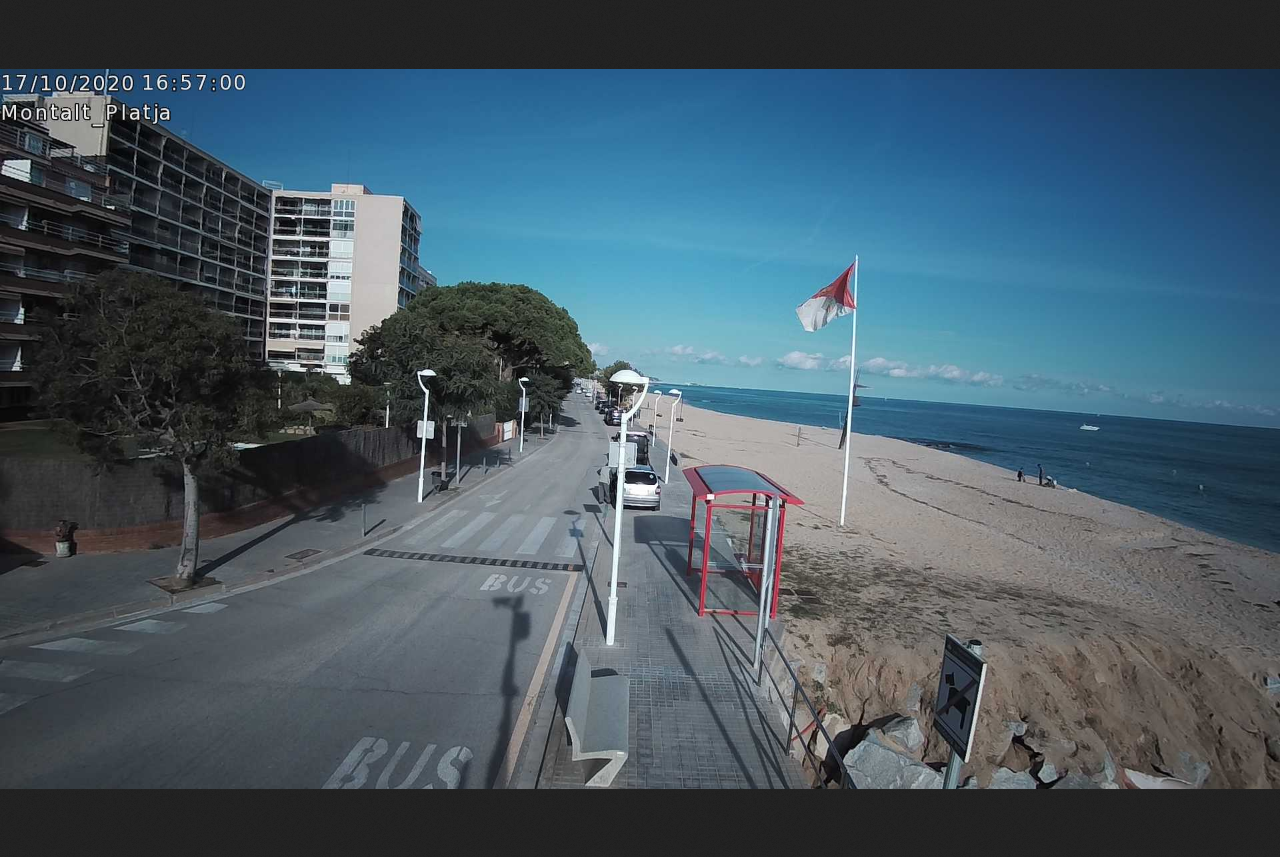maybe: (797, 263, 858, 335)
